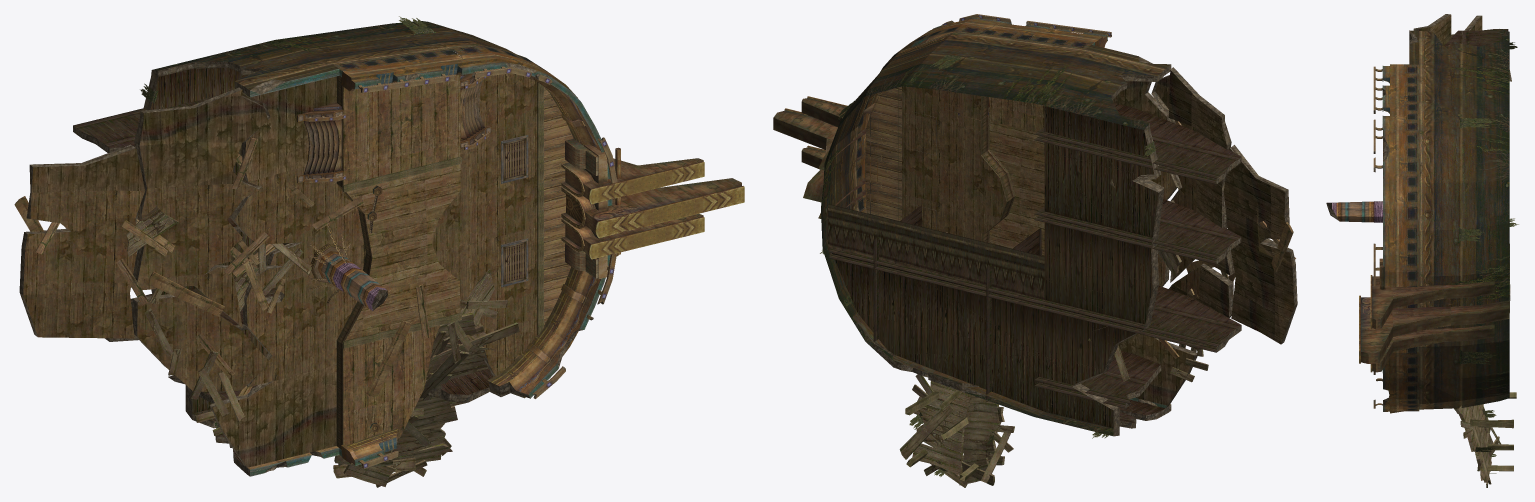
Rendered from juqing_fuben_395_chuan02.obj.
The picture shows the model from 3 angles, left to right: view 1: azimuth 30°, elevation 25°; view 2: azimuth 150°, elevation 25°; view 3: azimuth 270°, elevation 25°; orthographic projection. The views are drawn at different scales.
Visible parts, largest first — view 1: Box01; view 2: Box01; view 3: Box01.
Part boxes in pixels (left/top/right/bottom): Box01: left=14, top=16, right=744, bottom=487; Box01: left=773, top=14, right=1297, bottom=487; Box01: left=1326, top=14, right=1518, bottom=487.
Size of the model in its own units: 3567 by 2504 by 1181.
26 materials, 26 textured.
